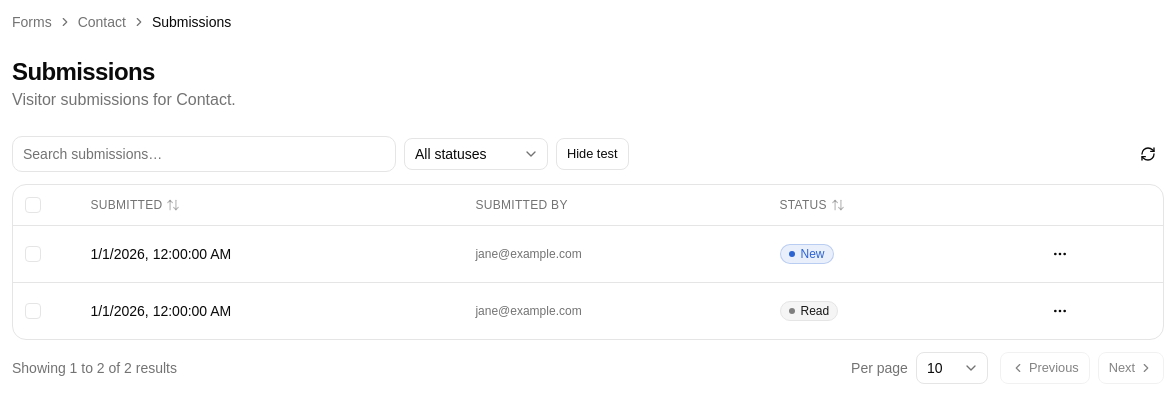
Test: FormSubmissionsPage › filters submissions by status
Expected: the icon "New" is shown, [780,244,834,264]
Expected: the icon "Read" is shown, [780,300,838,320]
Click the dropdown named "Filter by status": coordinates (476, 154) [404,138,548,170]
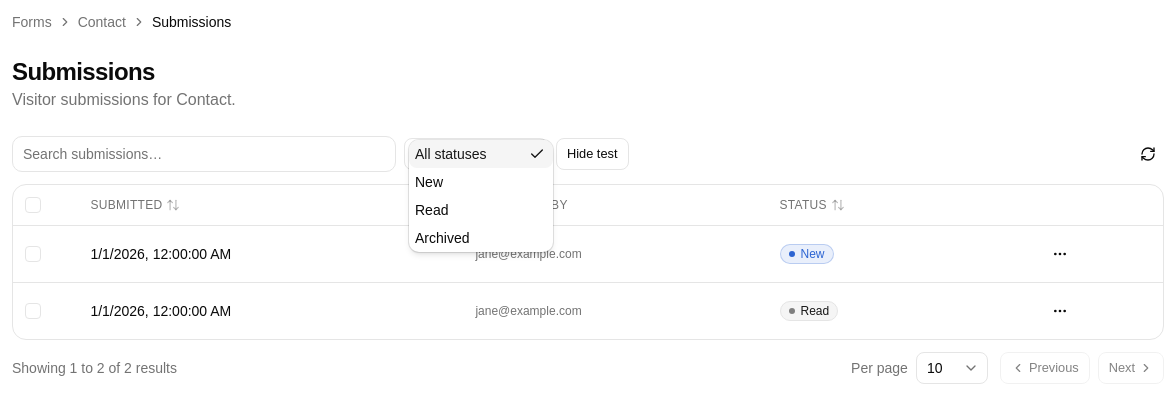
Click the option "New": coordinates (429, 182) [415,174,443,190]
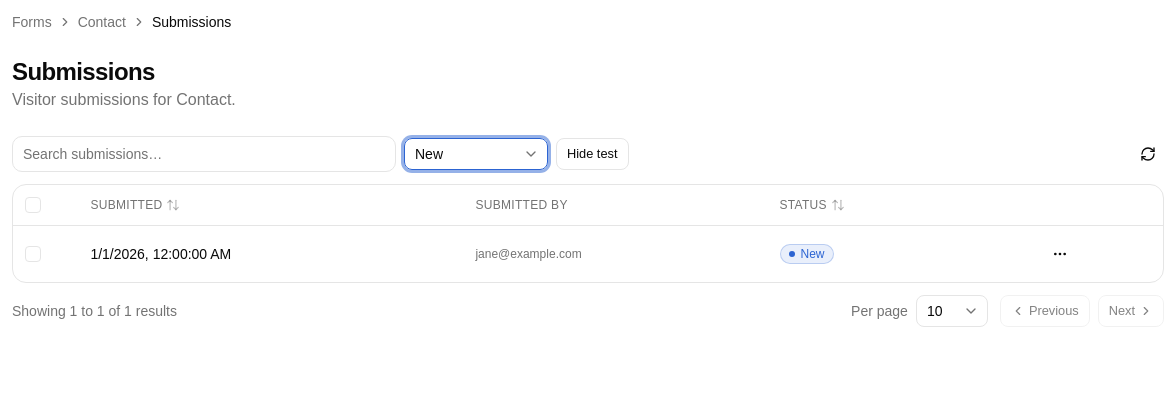
Expected: the icon "New" is shown, [780,244,834,264]
Expected: the icon "Read" is gone
